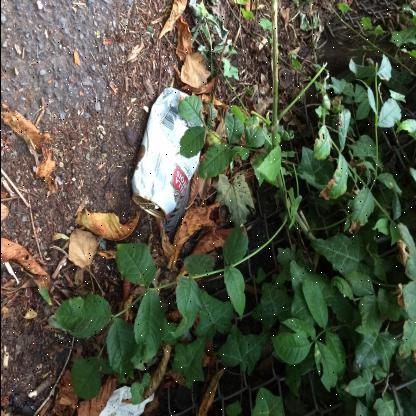metal: (128, 86, 202, 219)
